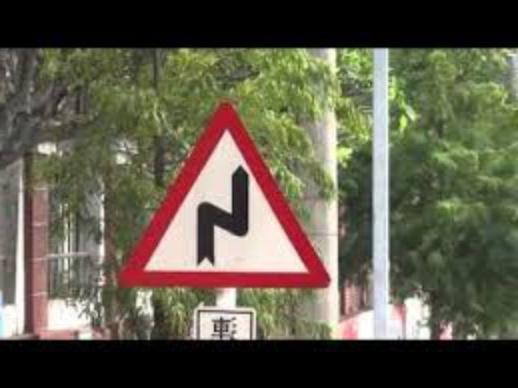double_bend_right: (112, 98, 334, 289)
